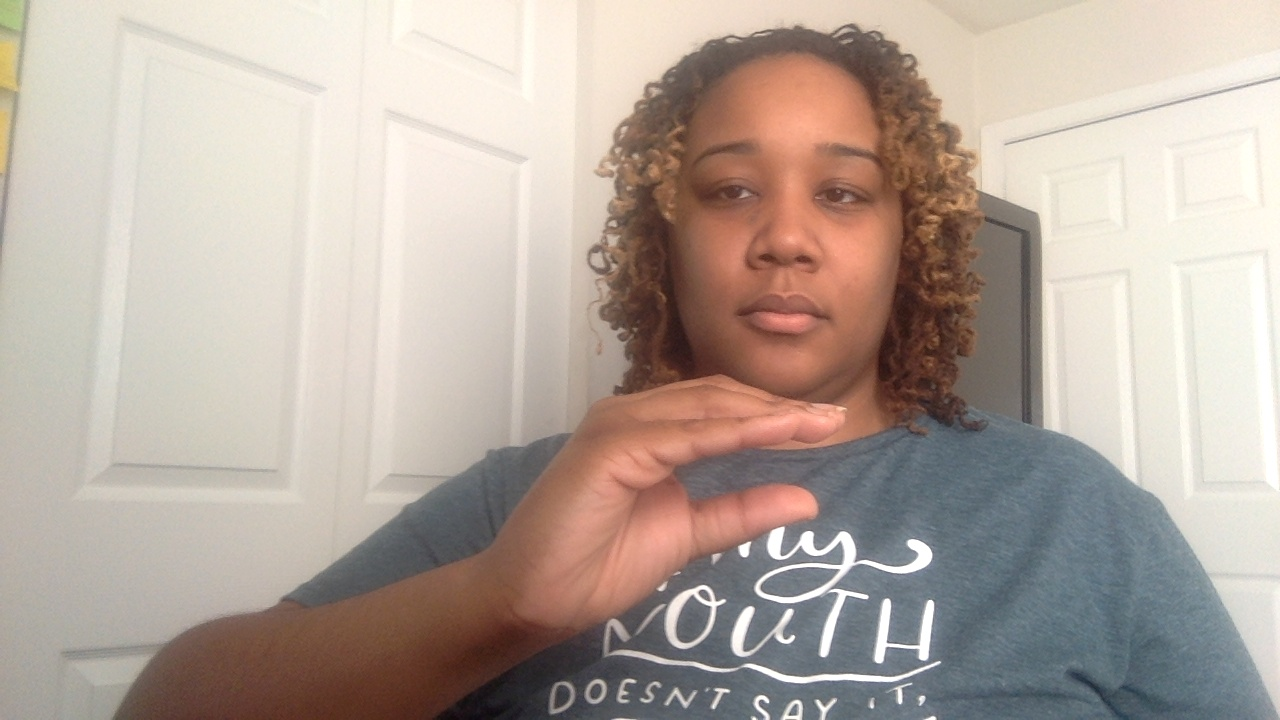no: (459, 371, 865, 644)
